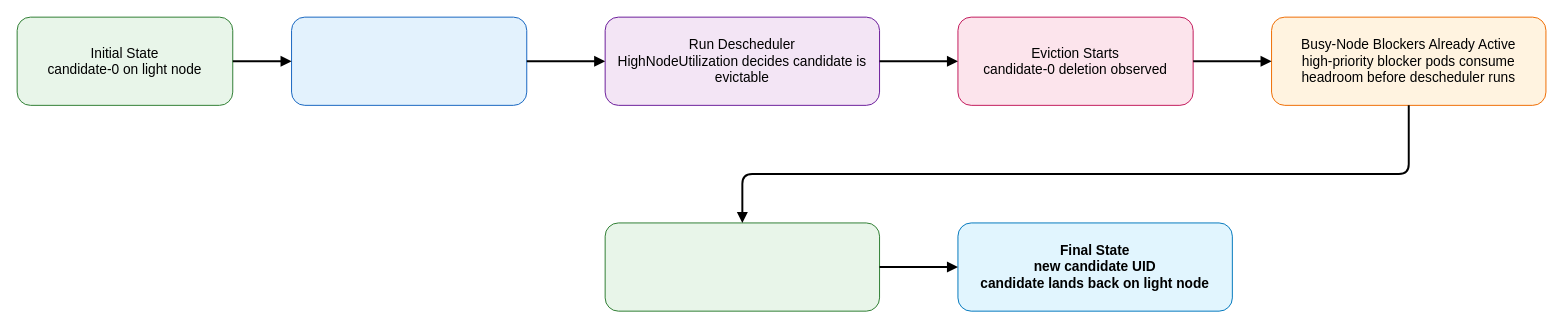
The diagram is 1563 pixels wide and 328 high, and some of its shapes have lost their labels. The box of each missing label's shape, as (x1, y1, x2, y2) in pixels:
Candidate Recreated busy nodes no longer have room: (604, 222, 880, 311)
Open Candidate Eligibility busy-a and busy-b become candidate-eligible: (291, 16, 527, 105)
